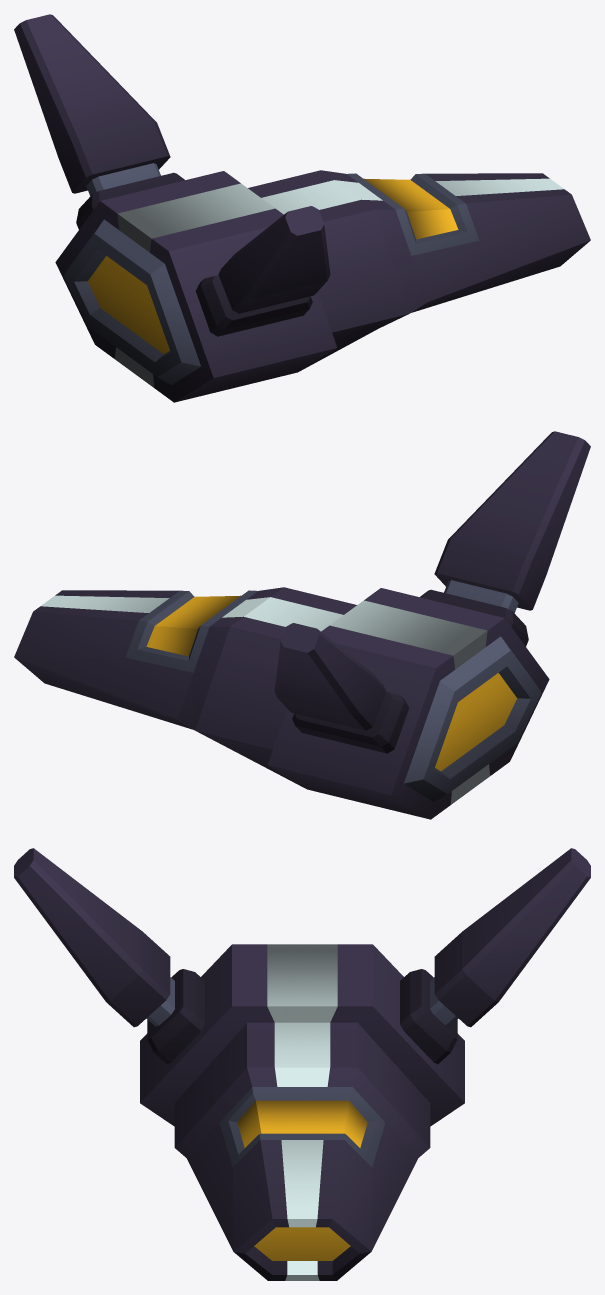
Rendered from Jet1.fbx.
3 renders of one model, top to bottom at view 1: azimuth 30°, elevation 25°; view 2: azimuth 150°, elevation 25°; view 3: azimuth 270°, elevation 25°, orthographic. The views are drawn at different scales.
Parts seen in each view (by area): view 1: Jet1; view 2: Jet1; view 3: Jet1.
Part boxes in pixels (x1,y1,x2,y2): Jet1: (14, 14, 590, 402); Jet1: (14, 431, 590, 819); Jet1: (14, 848, 590, 1280).
Bounding box in the file's own units: 370 × 205 × 413.
1 material, 1 textured.
